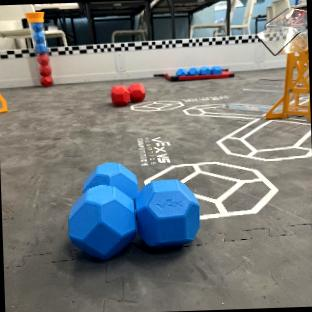Goal: (259, 7, 310, 119)
Parking-R: (157, 71, 233, 81)
V5_BLUE: (68, 161, 201, 260), (68, 183, 136, 259), (176, 66, 222, 77)
V5_RED: (111, 82, 145, 106), (38, 53, 52, 85)
